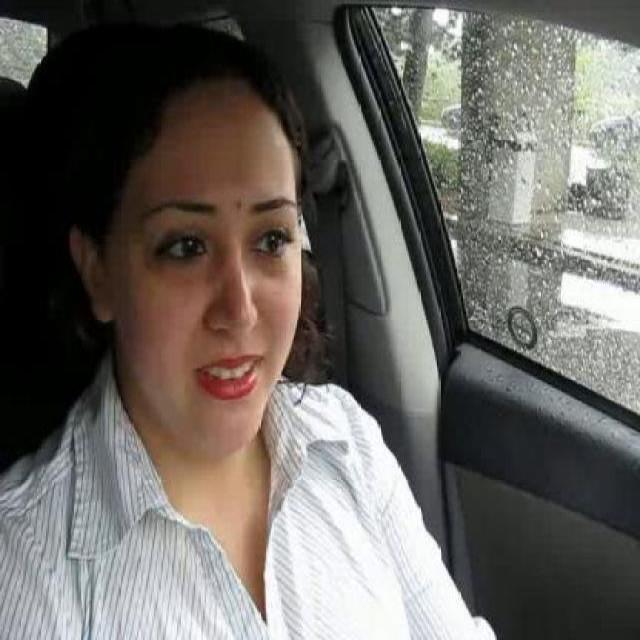no-seatbelt: (40, 452, 506, 640)
